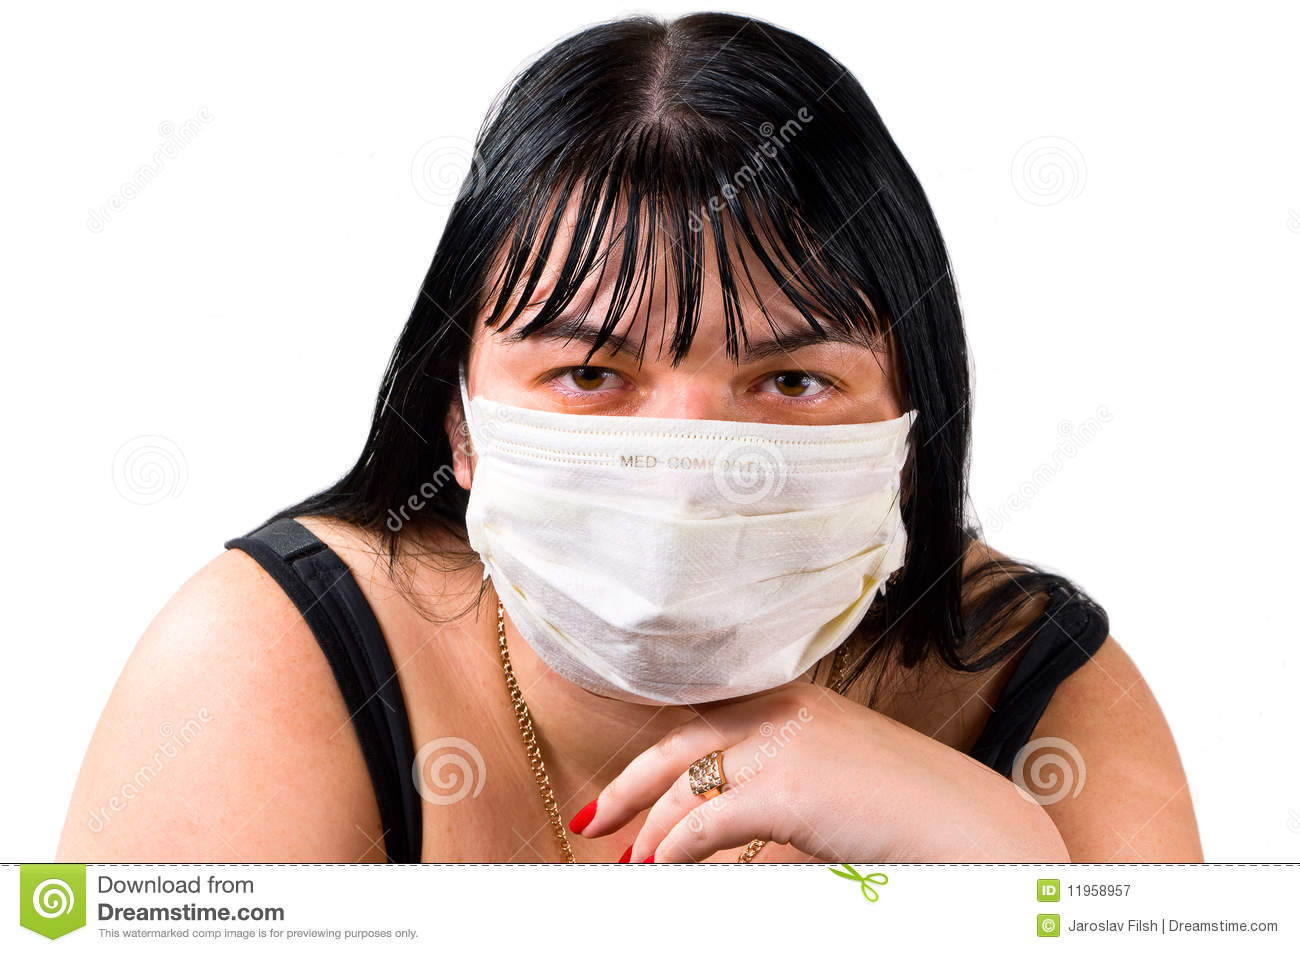mask: (456, 390, 916, 708)
